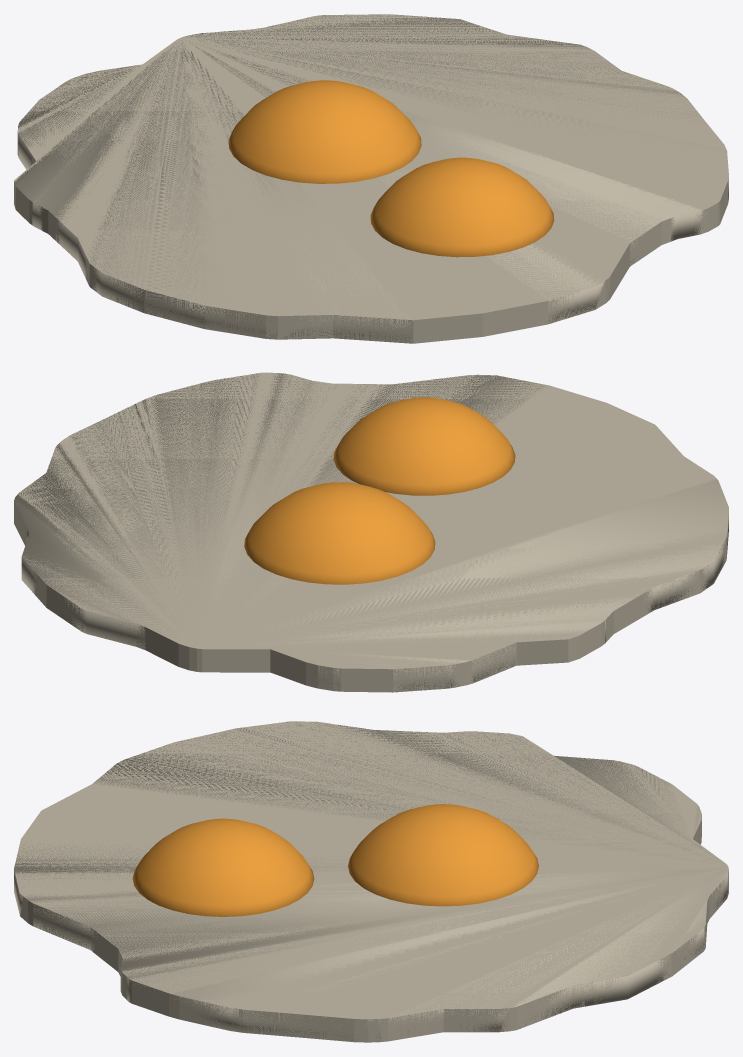
File: softegg.fbx
3 views of the same model, one above another, from view 1: azimuth 30°, elevation 25°; view 2: azimuth 150°, elevation 25°; view 3: azimuth 270°, elevation 25° (orthographic).
Visible parts, largest first — view 1: White, Single Softegg Object, Yolk2, Yolk1; view 2: White, Single Softegg Object, Yolk2, Yolk1; view 3: White, Single Softegg Object, Yolk2, Yolk1.
Boxes of the visible parts, left/top/right/bottom form: White: left=14, top=14, right=728, bottom=343; Single Softegg Object: left=14, top=14, right=728, bottom=343; Yolk2: left=228, top=80, right=421, bottom=183; Yolk1: left=370, top=157, right=553, bottom=257; White: left=14, top=372, right=727, bottom=692; Single Softegg Object: left=14, top=373, right=728, bottom=691; Yolk2: left=244, top=482, right=435, bottom=584; Yolk1: left=333, top=397, right=515, bottom=492; White: left=15, top=721, right=728, bottom=1042; Single Softegg Object: left=14, top=721, right=728, bottom=1042; Yolk2: left=348, top=804, right=538, bottom=906; Yolk1: left=132, top=820, right=313, bottom=916.
Bounding box in the file's own units: 358 × 43.2 × 363.
